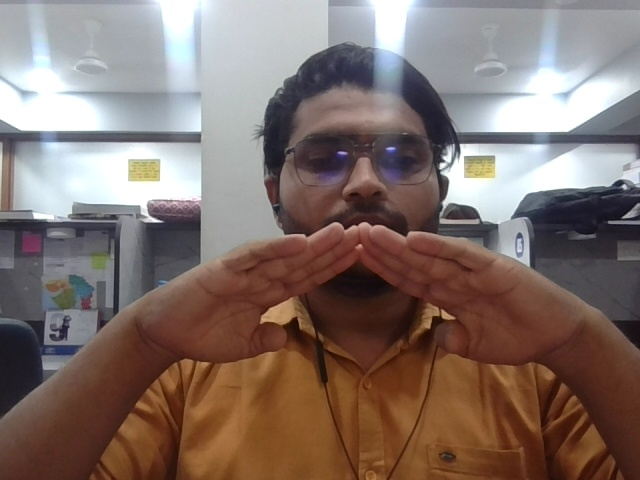ThankYou: (159, 221, 578, 365)
